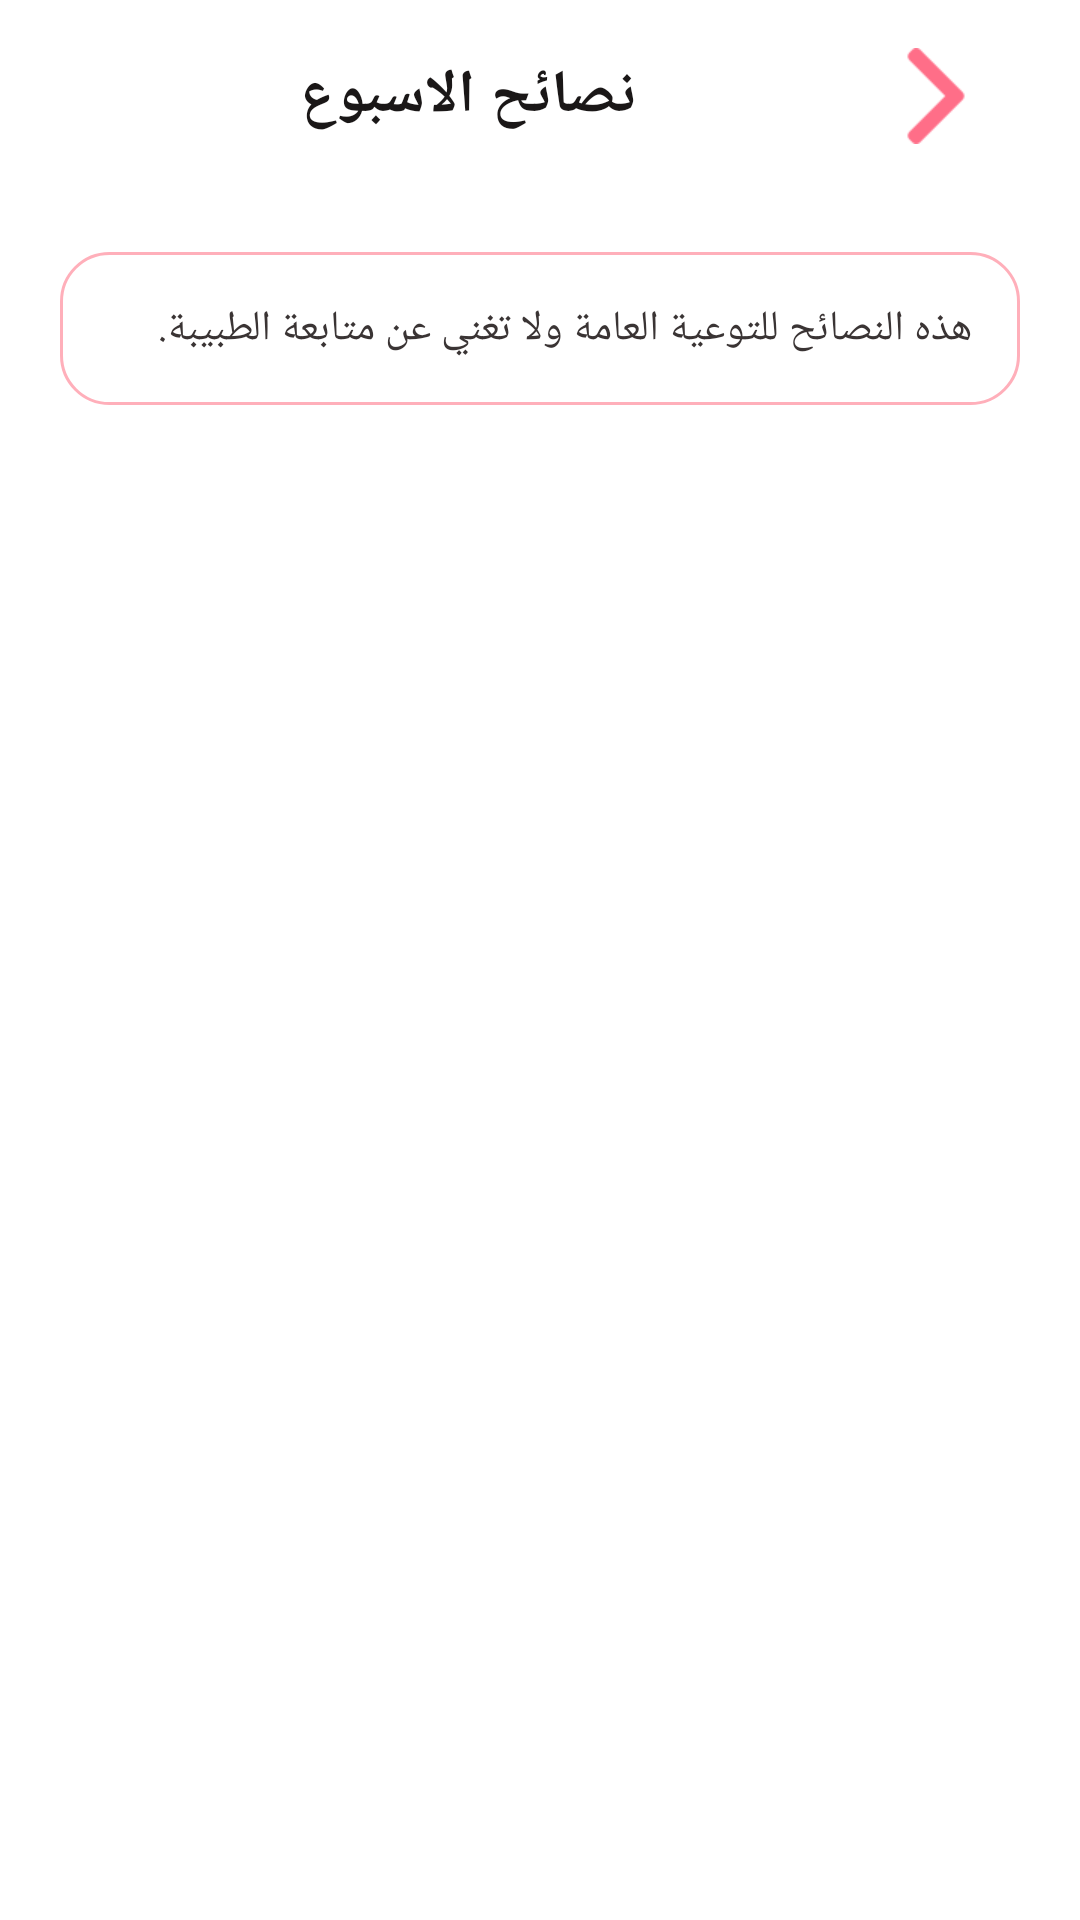

Icon bounding boxes for this 1080*1920 phone screenshot, format [x1=x1, y1=y1, x2=x2, y2=y2]:
rightarrow: [x1=907, y1=48, x2=965, y2=144]
